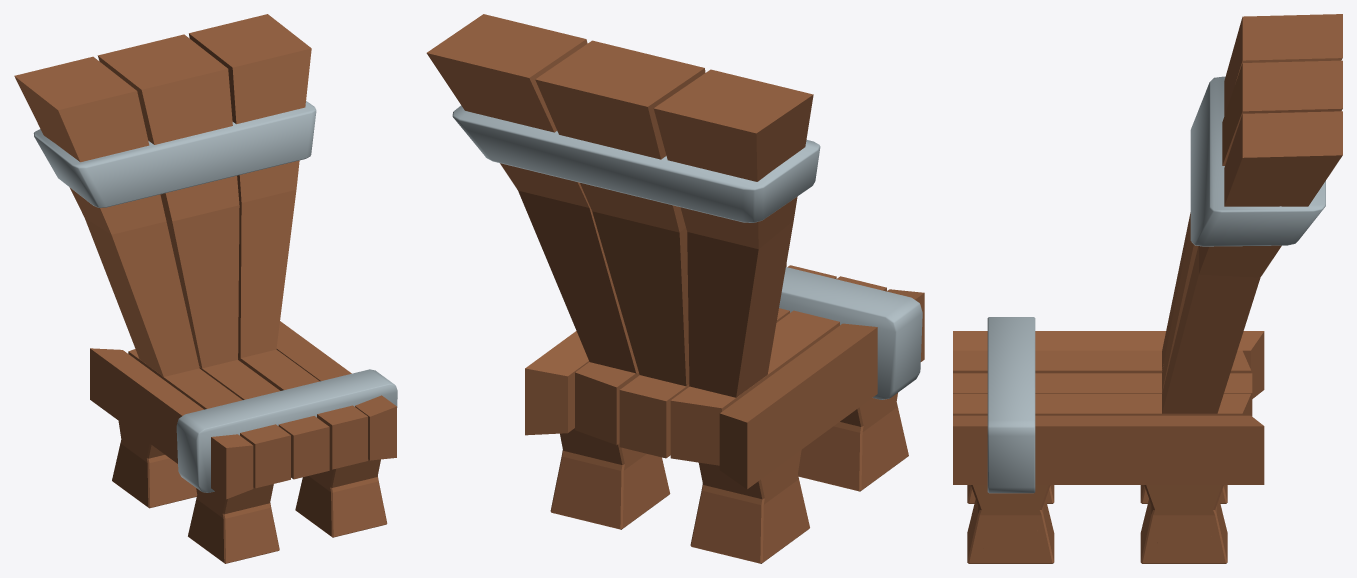
The model's file is chair.glb.
3 views of the same model, side by side, from view 1: azimuth 30°, elevation 25°; view 2: azimuth 150°, elevation 25°; view 3: azimuth 270°, elevation 25° (orthographic). The views are drawn at different scales.
Visible parts, largest first — view 1: chair; view 2: chair; view 3: chair.
Part boxes in pixels (bbox=[...]): chair: bbox=[14, 14, 397, 563]; chair: bbox=[426, 14, 924, 563]; chair: bbox=[953, 14, 1342, 563].
Size of the model in its own units: 1.85 by 2.64 by 2.15.
